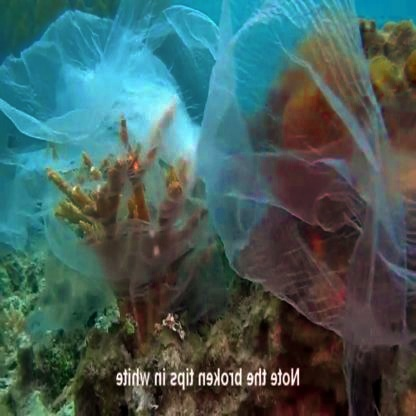pbag: (197, 3, 416, 416), (0, 2, 228, 350)
